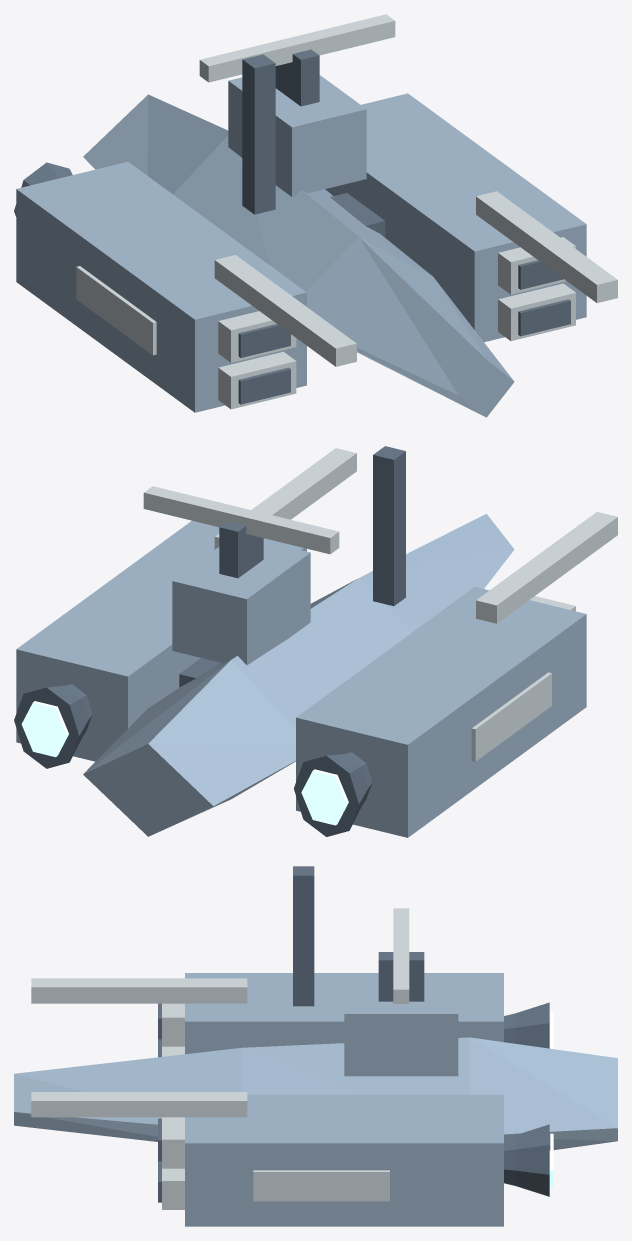
3 renders of one model, top to bottom at view 1: azimuth 30°, elevation 25°; view 2: azimuth 150°, elevation 25°; view 3: azimuth 270°, elevation 25°, orthographic. The views are drawn at different scales.
Size of the model in its own units: 9.13 by 6.54 by 13.41.
